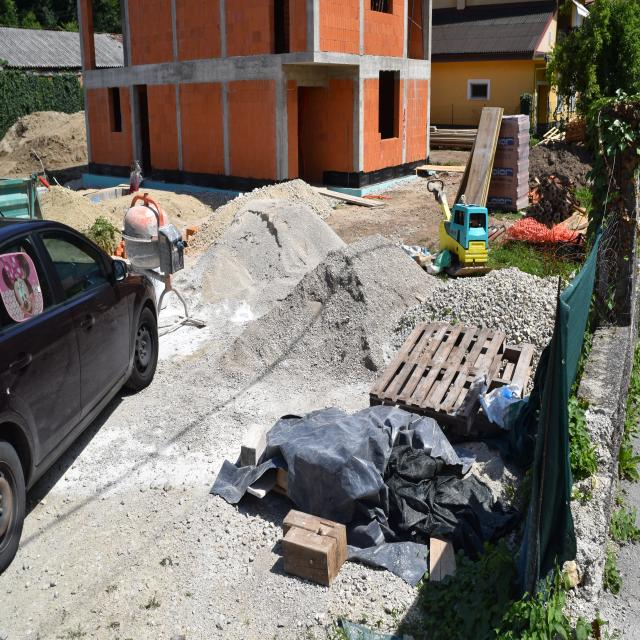entulho: (434, 337, 590, 608), (258, 406, 512, 563), (371, 320, 509, 412), (277, 511, 355, 591), (561, 93, 639, 164), (454, 106, 502, 212), (381, 414, 456, 478), (489, 332, 539, 388), (123, 191, 166, 245), (317, 188, 383, 208), (239, 423, 268, 464), (429, 536, 453, 583), (429, 126, 476, 150), (564, 116, 587, 145), (535, 126, 564, 146), (272, 467, 288, 496), (427, 165, 467, 175), (246, 485, 268, 498), (416, 165, 433, 177)
restos de madeira: (573, 205, 587, 215)
terra: (195, 189, 346, 313), (279, 234, 436, 352), (0, 105, 85, 181), (39, 185, 109, 231)
